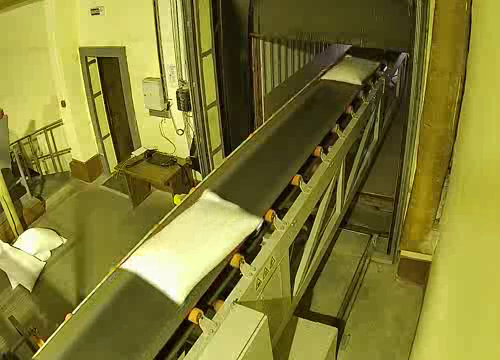bag: (119, 183, 263, 308), (319, 53, 381, 86)
